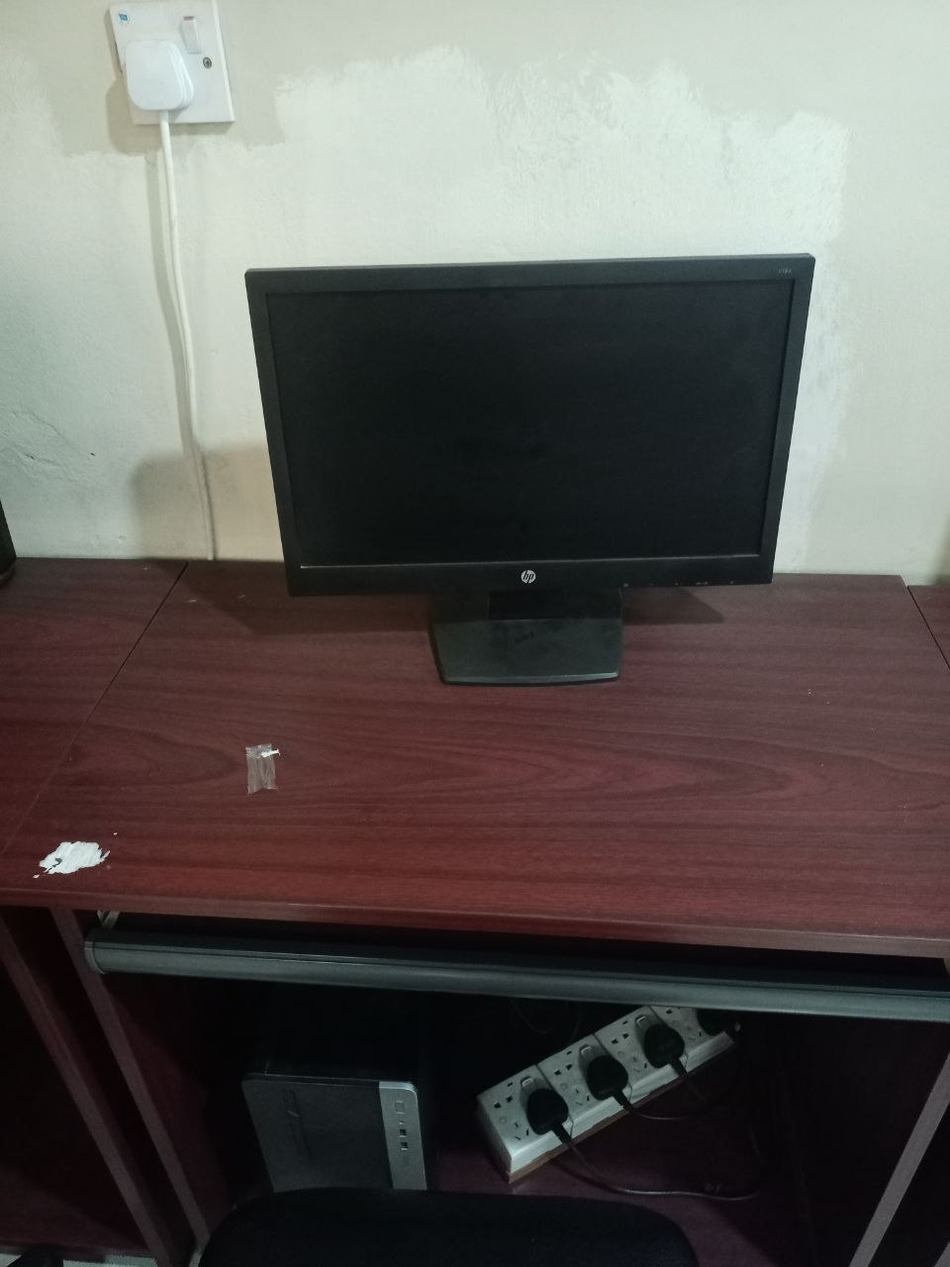computer monitor: (247, 255, 812, 681)
